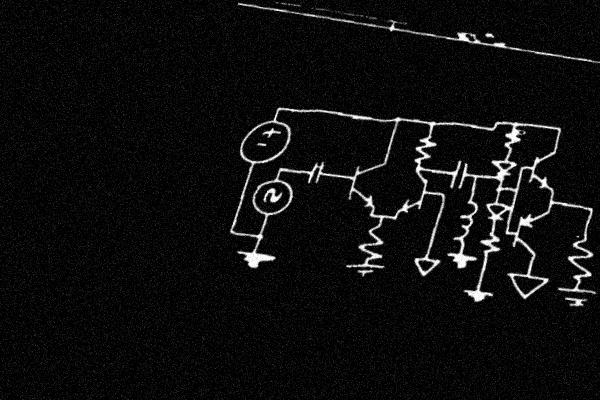capacitor: (439, 154, 477, 196), (299, 155, 331, 189)
diode: (479, 192, 513, 231), (483, 153, 521, 184)
ground: (496, 261, 554, 308), (228, 238, 281, 279), (549, 277, 600, 317), (404, 244, 447, 287), (456, 273, 500, 314), (338, 255, 389, 288), (438, 244, 482, 280)
inductor: (445, 186, 485, 253)
resistor: (556, 225, 600, 291), (353, 216, 397, 266), (472, 224, 508, 266), (408, 124, 439, 169), (498, 124, 530, 158)
signal: (243, 167, 300, 228)
voltage: (231, 106, 299, 175)
